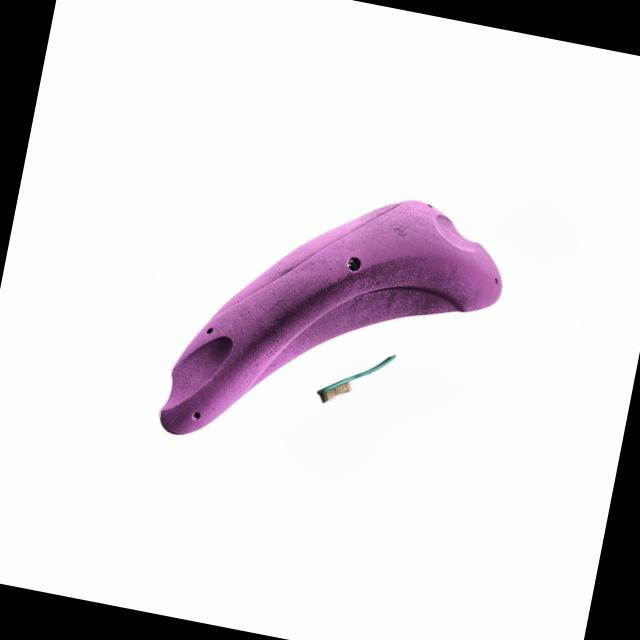Hold: (149, 176, 514, 469)
